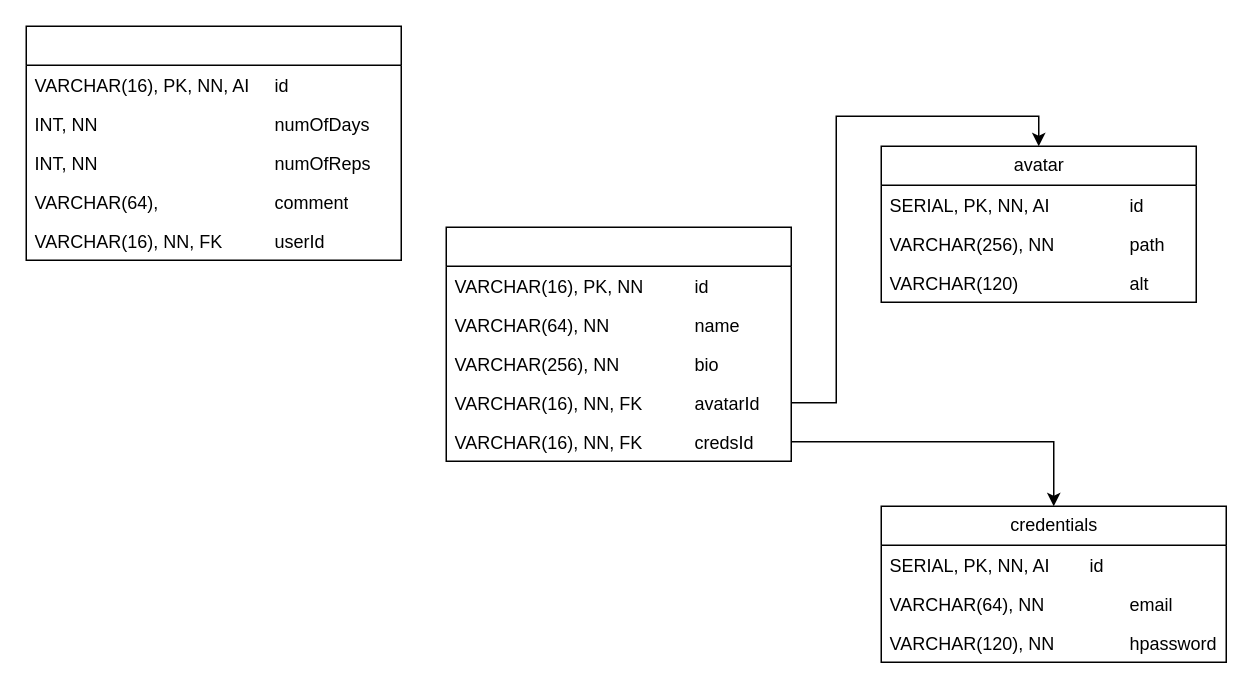
The diagram is 1253 pixels wide and 693 high, and some of its shapes have lost their labels. Here are the shapes that lost their labels. From the top down, the box of each, then its label:
(25, 25, 401, 260): target
(445, 226, 791, 461): user
